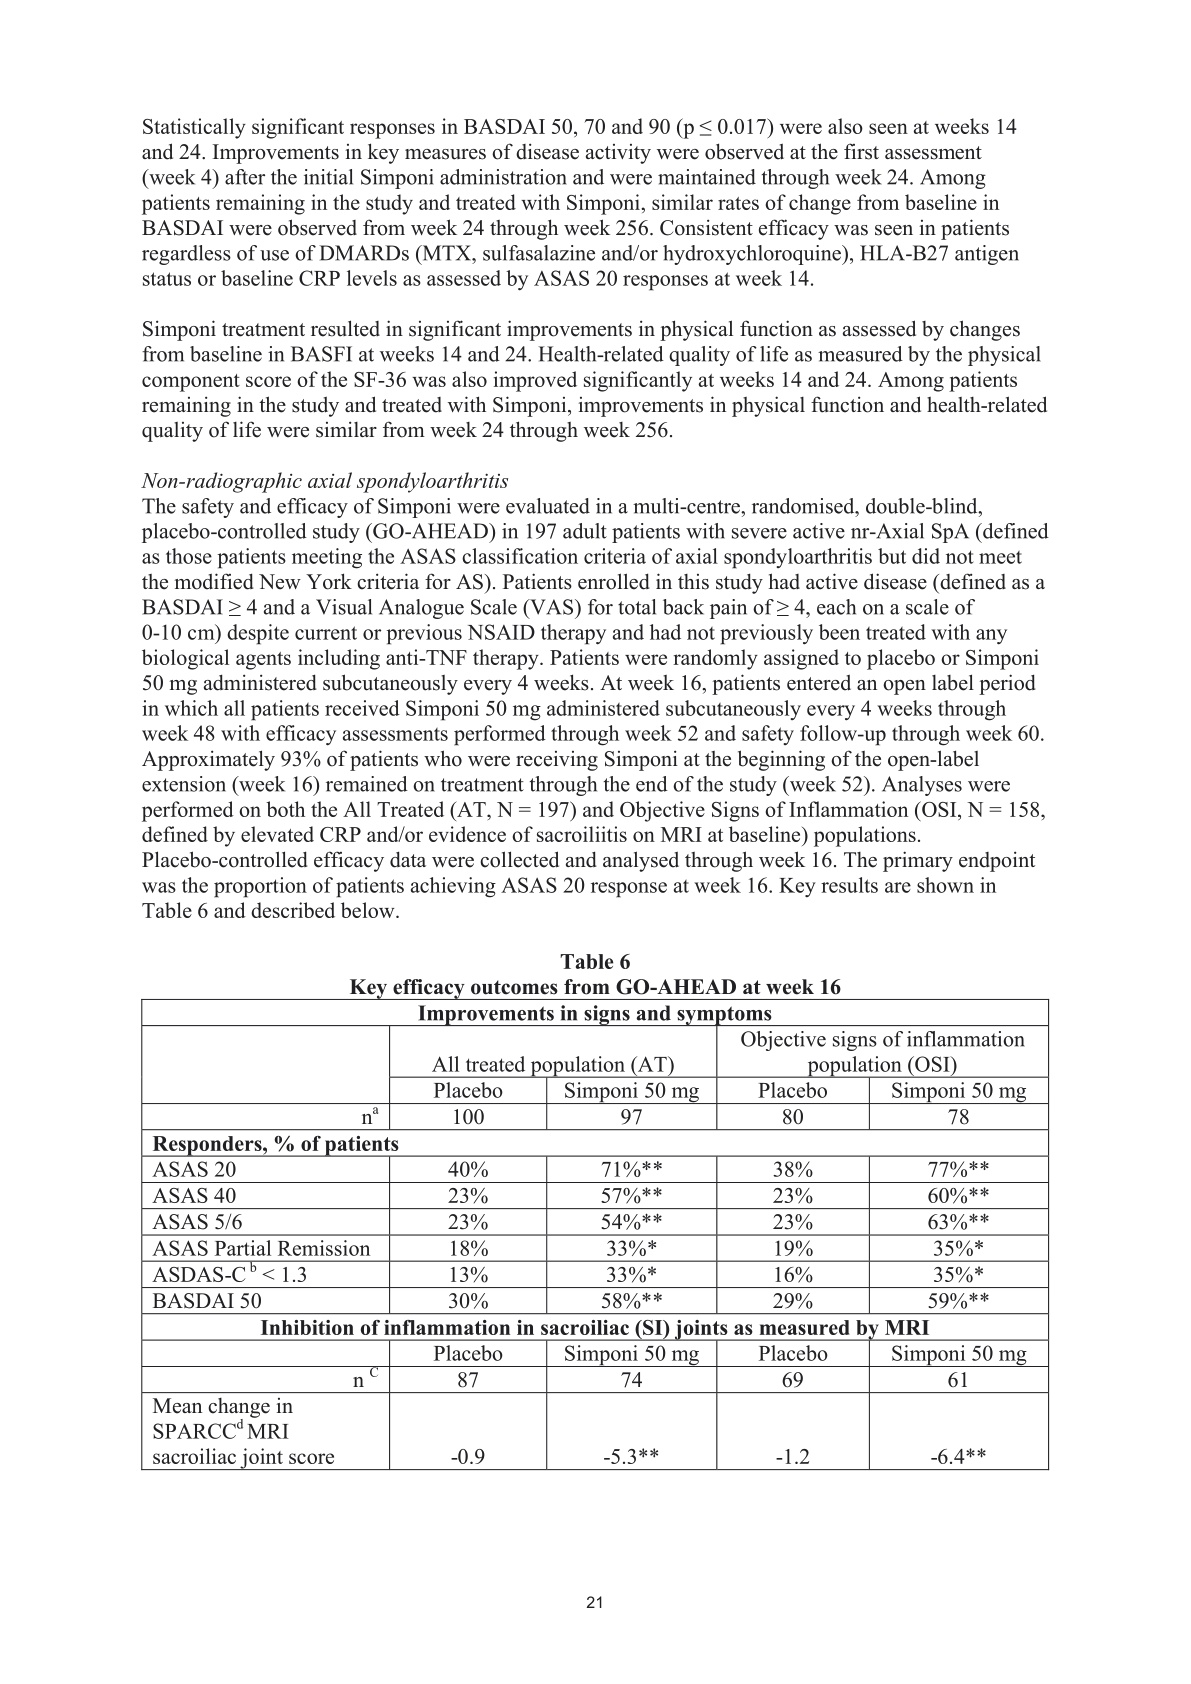merged_cells: (140, 999, 1051, 1471)
